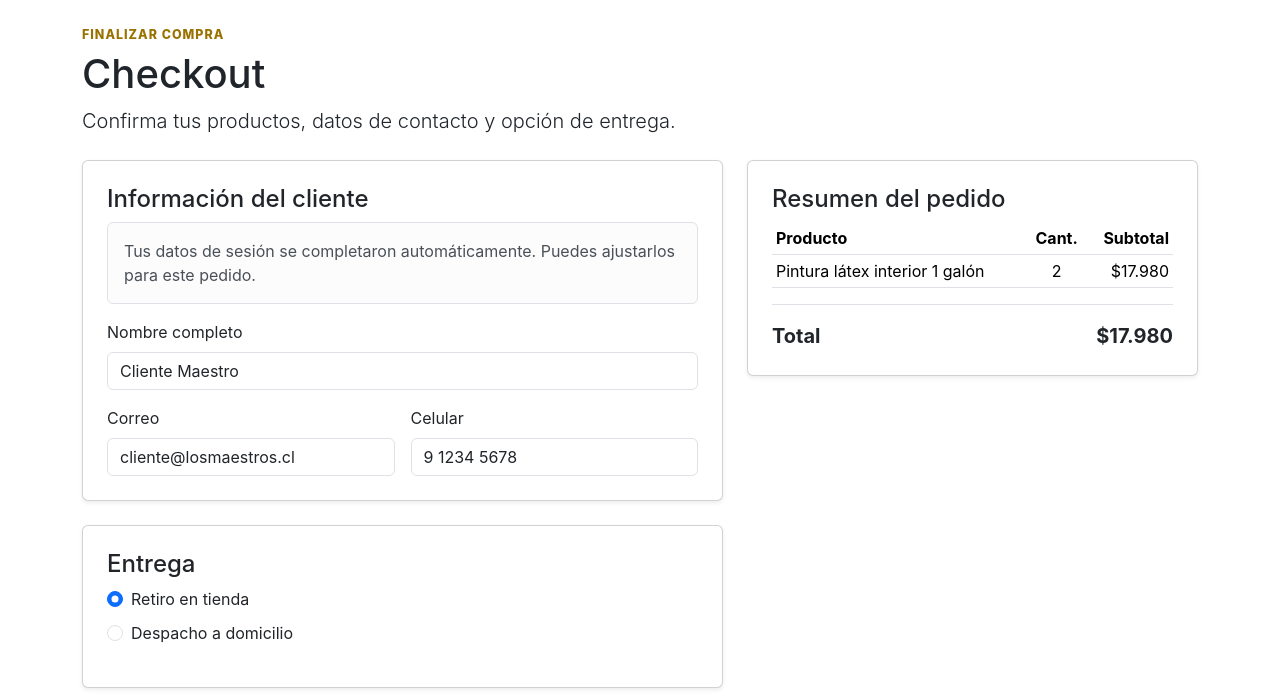
Test case: Integrante 2 - Checkout y confirmación › 18. autocompleta los datos del cliente y exige dirección cuando selecciona despacho
The image size is (1280, 698).
Expected: the field labelled "Nombre completo" holds "Cliente Maestro", [107,352,698,390]
Expected: the field labelled "Correo" holds "cliente@losmaestros.cl", [107,438,394,476]
Step 1. Click the radio button labelled "Despacho a domicilio" → (115, 633), box [107,625,123,641]
(page scrolled)
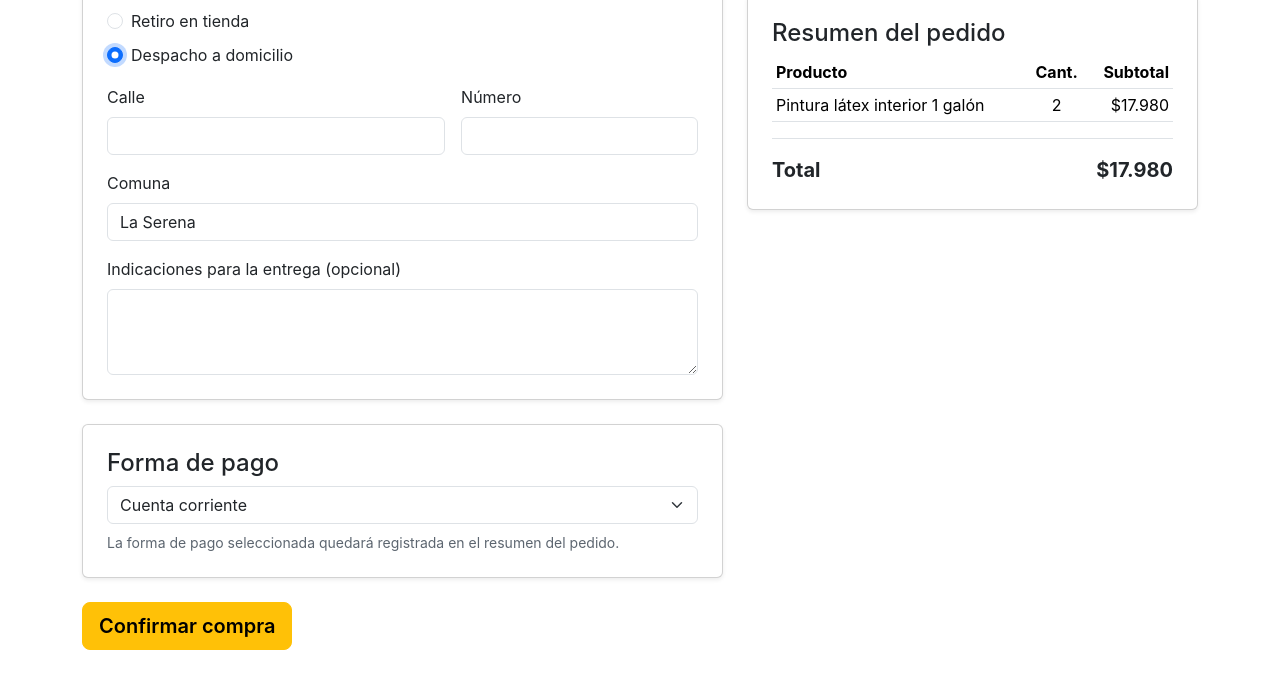
Step 2. Click the button "Confirmar compra" → (187, 626), box [82,602,292,650]
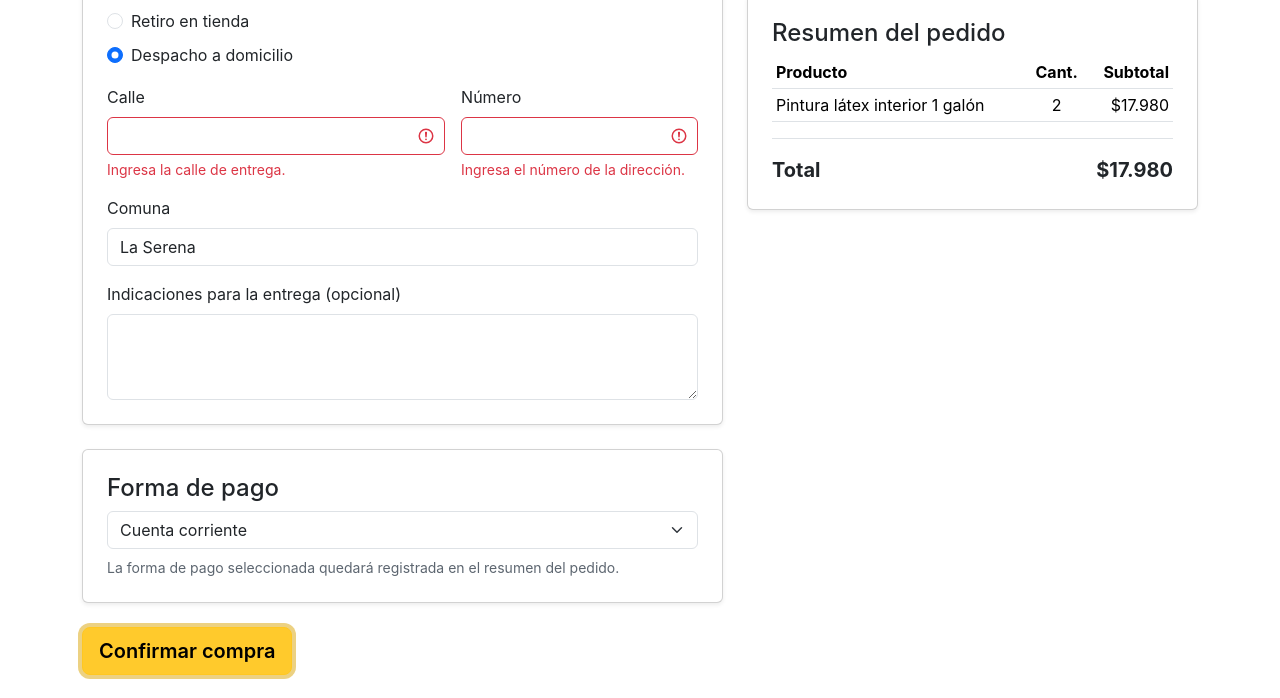
Expected: the text "Ingresa la calle de entrega." is shown, [107,161,286,178]
Expected: the text "Ingresa el número de la dirección." is shown, [461,159,698,180]
